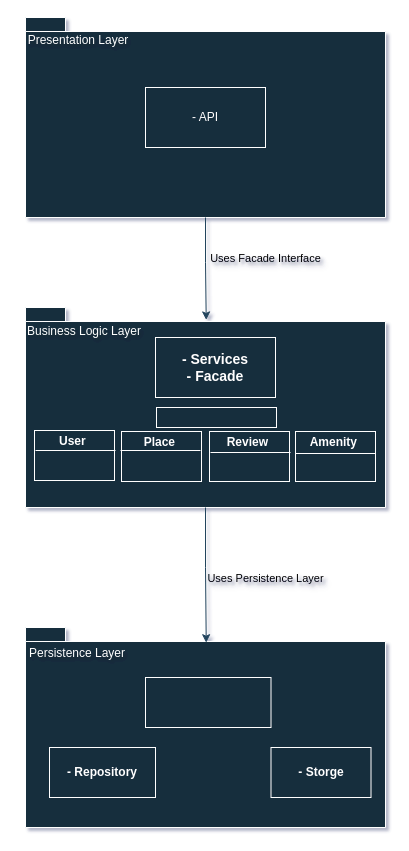
This 409x851 diagram has some shape labels left out. The shapes that lost their labels are listed below. From the top down, each one's centre as x and y in pixels, then its label:
At pixel 216 417: "- Models".
At pixel 207 702: "- Database Access".
